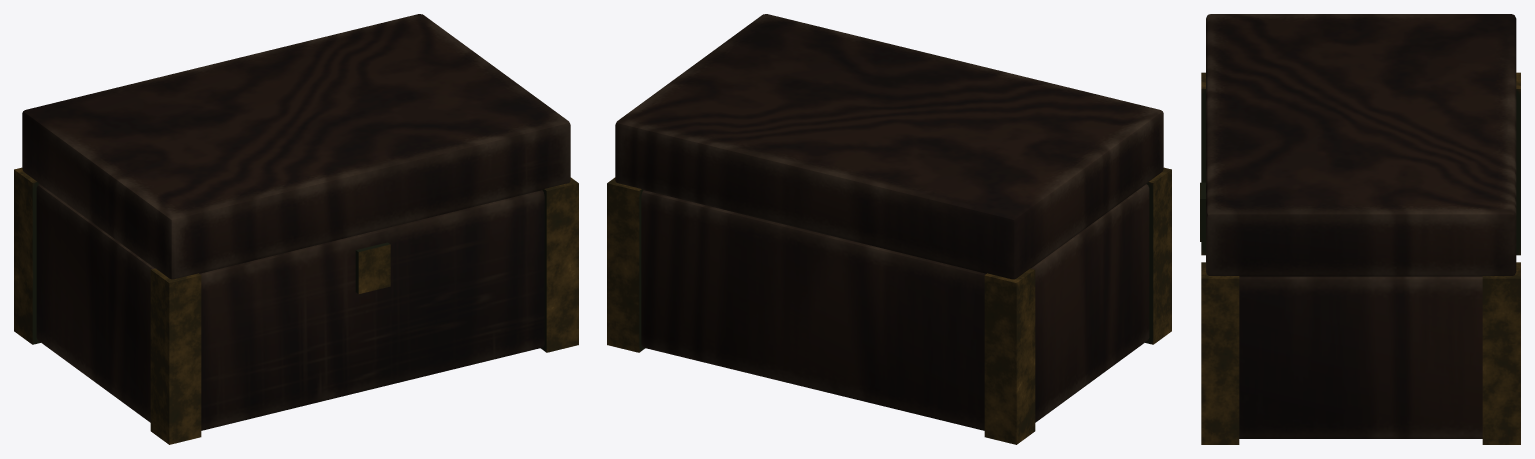
The model's file is vera_musicbox.glb.
The picture shows the model from 3 angles, left to right: view 1: azimuth 30°, elevation 25°; view 2: azimuth 150°, elevation 25°; view 3: azimuth 270°, elevation 25°; orthographic projection. The views are drawn at different scales.
Parts seen in each view (by area): view 1: Lid, Box, Brass; view 2: Lid, Box, Brass; view 3: Lid, Box, Brass.
Boxes of the visible parts, x1,y1,x2,y2 form: Lid: (22, 14, 570, 279); Box: (36, 184, 544, 430); Brass: (14, 167, 578, 444); Lid: (615, 14, 1163, 279); Box: (641, 184, 1149, 430); Brass: (607, 167, 1171, 444); Lid: (1206, 14, 1516, 276); Box: (1239, 276, 1482, 438); Brass: (1200, 72, 1520, 444).
Size of the model in its own units: 0.204 by 0.1064 by 0.1345.
6 materials, 6 textured.
